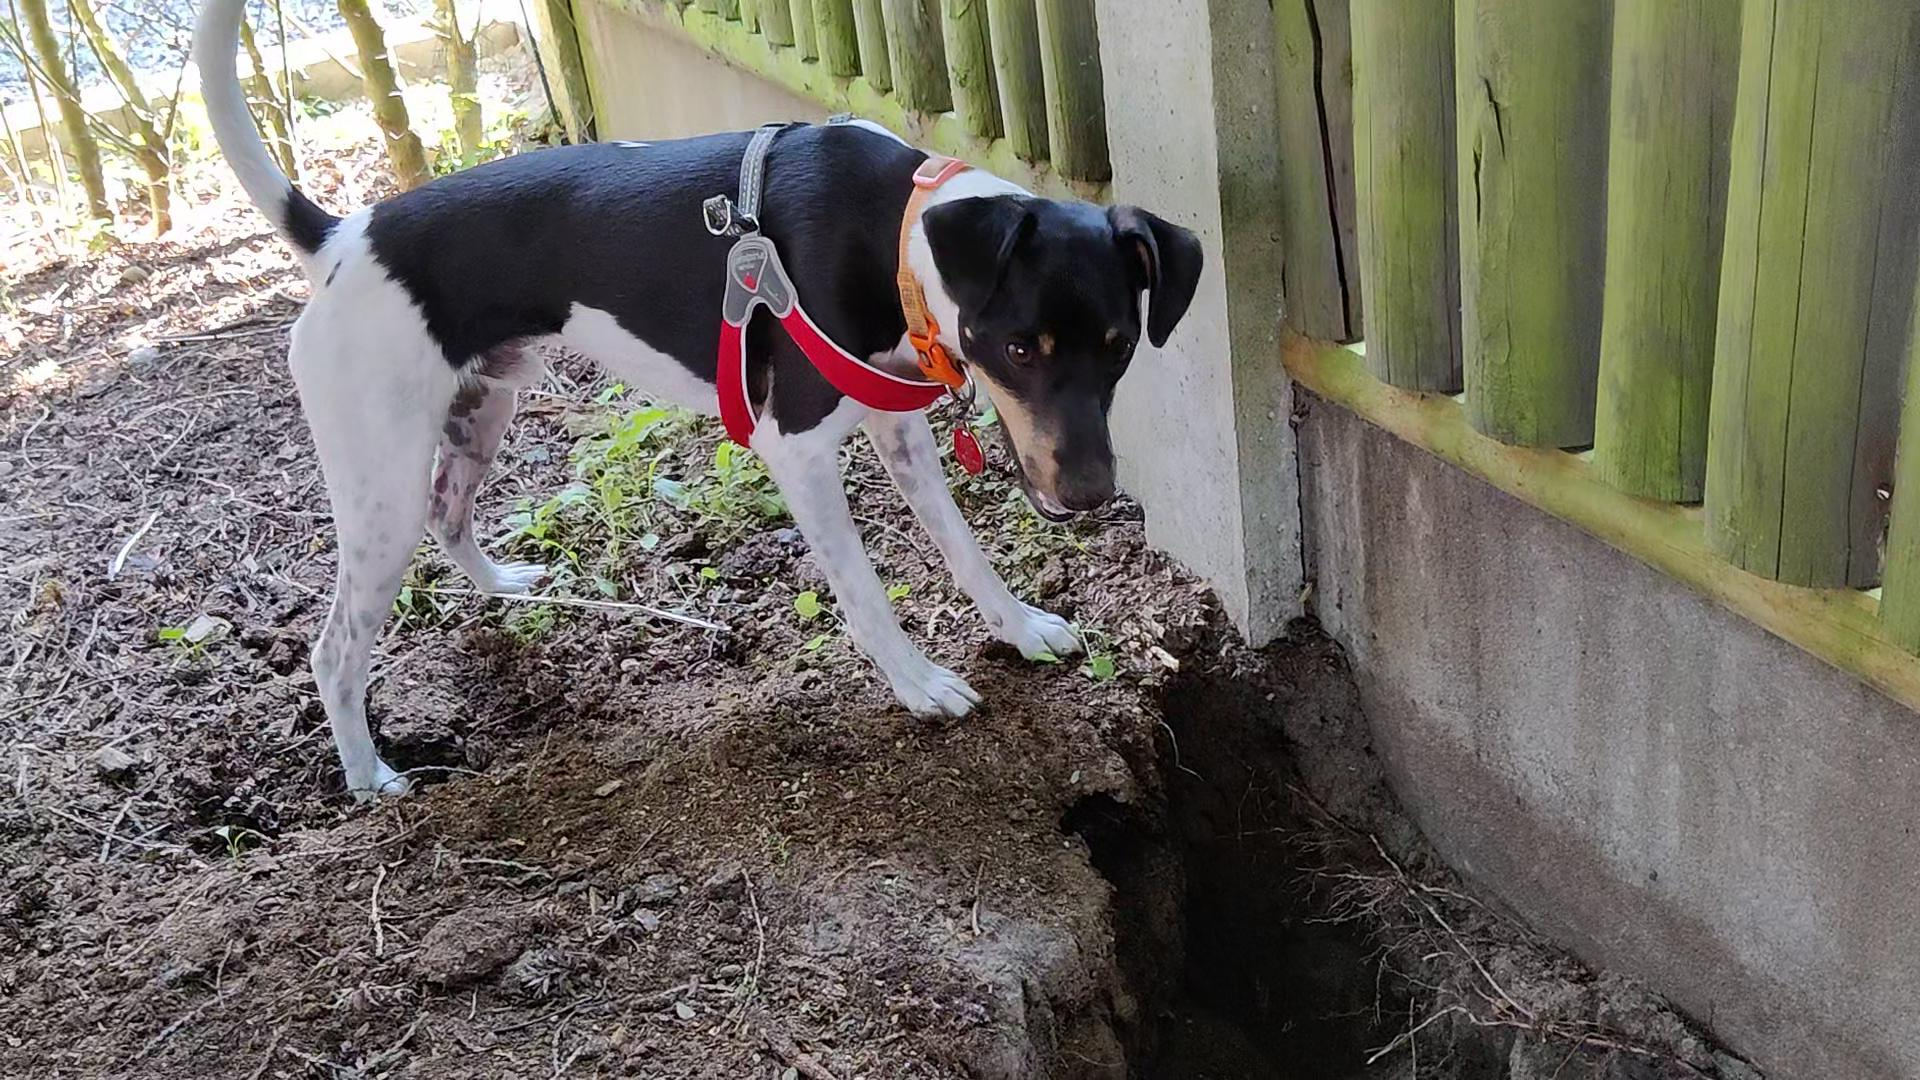Dog: (179, 0, 1212, 822)
